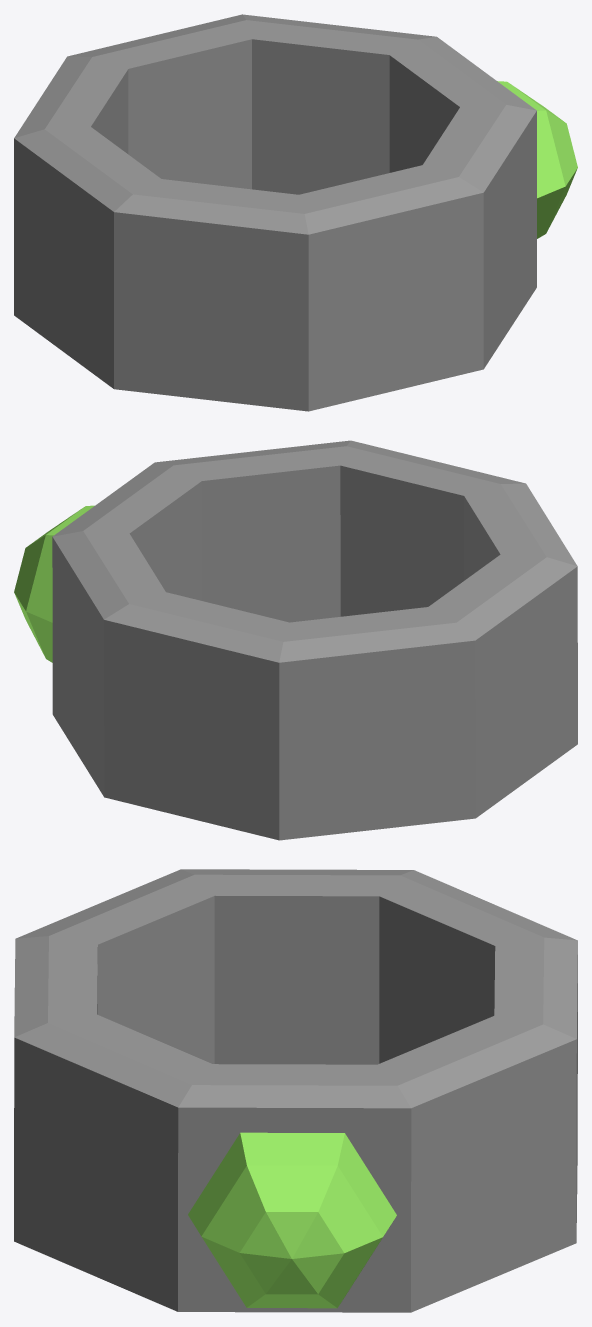
File: Ring.fbx
3 views of the same model, one above another, from view 1: azimuth 30°, elevation 25°; view 2: azimuth 150°, elevation 25°; view 3: azimuth 270°, elevation 25° (orthographic). The views are drawn at different scales.
Visible parts, largest first — view 1: Ring; view 2: Ring; view 3: Ring.
Boxes of the visible parts, box(x1,y1,x2,y2) form: Ring: box(14, 14, 577, 411); Ring: box(14, 440, 577, 840); Ring: box(14, 869, 577, 1312).
Bounding box in the file's own units: 19.13 × 7.03 × 16.17.
